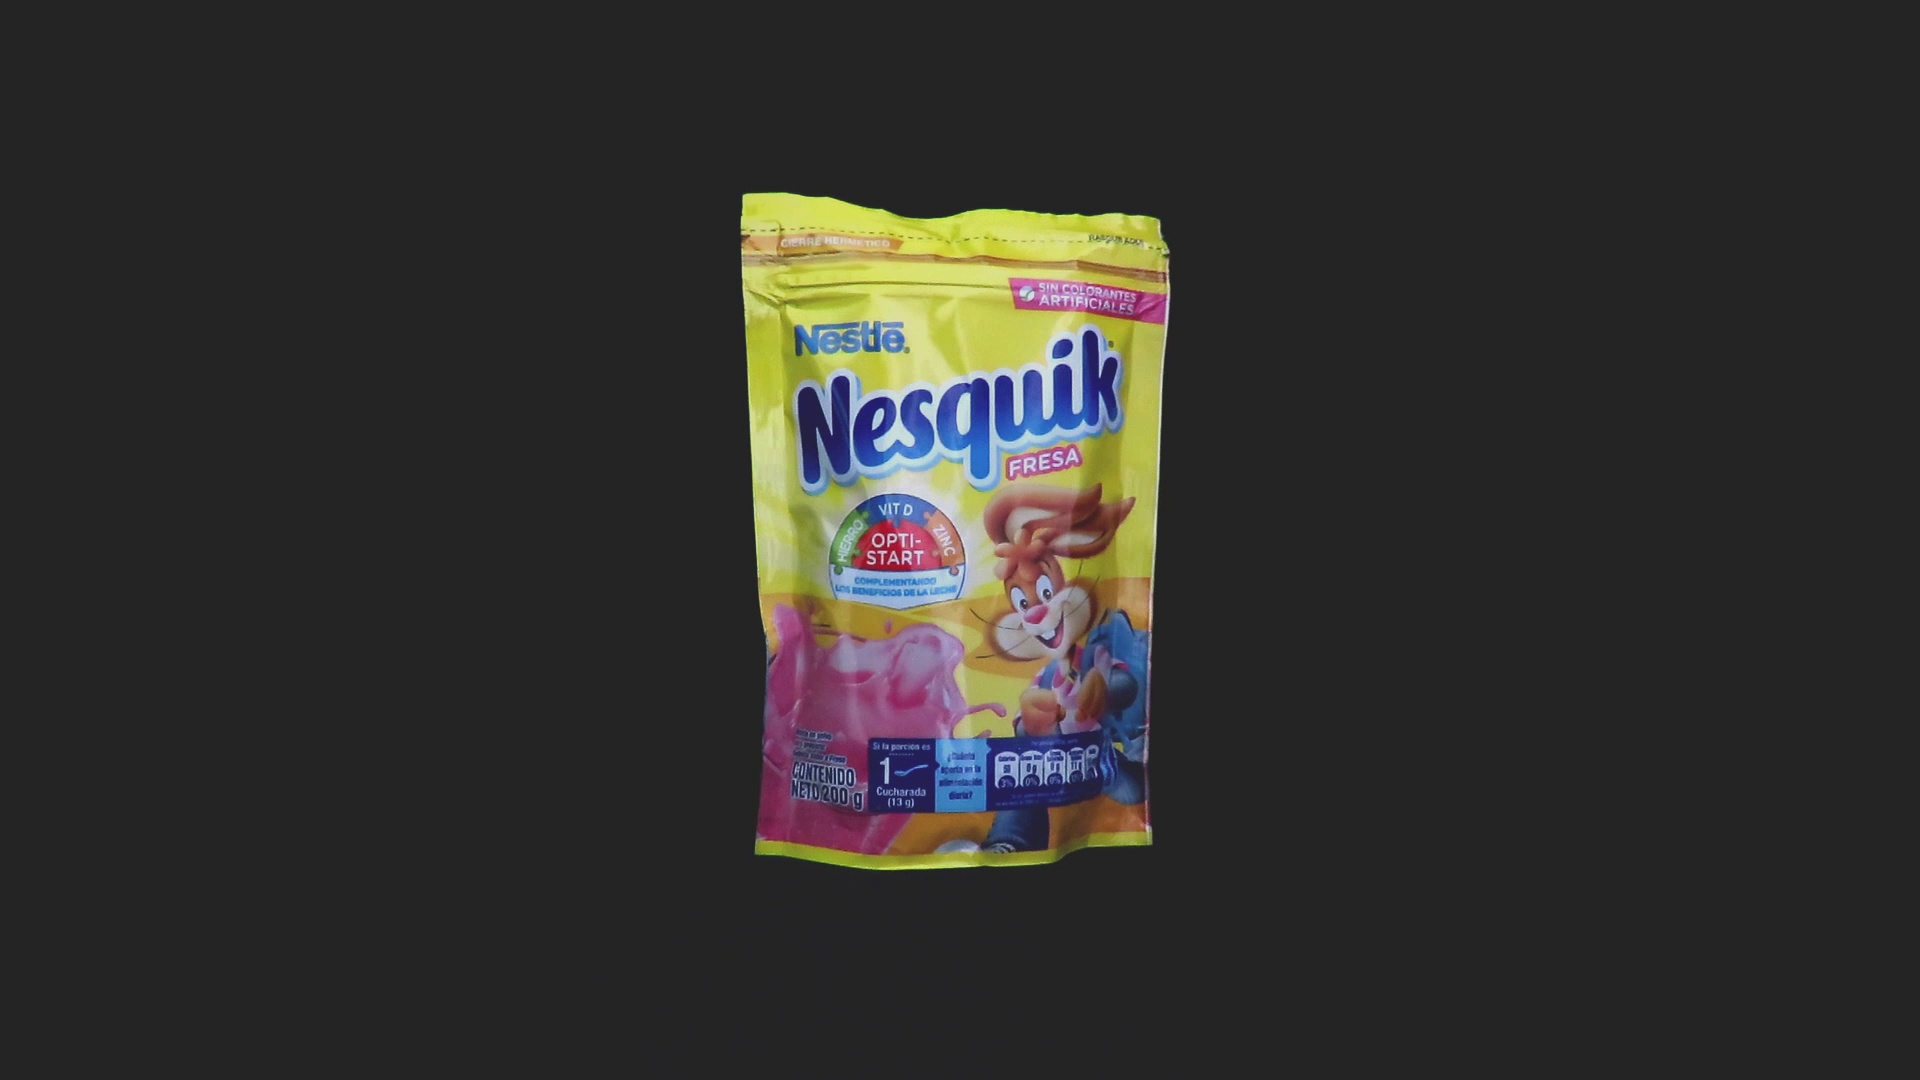COL0170305DYP20000: (735, 187, 1178, 877)
